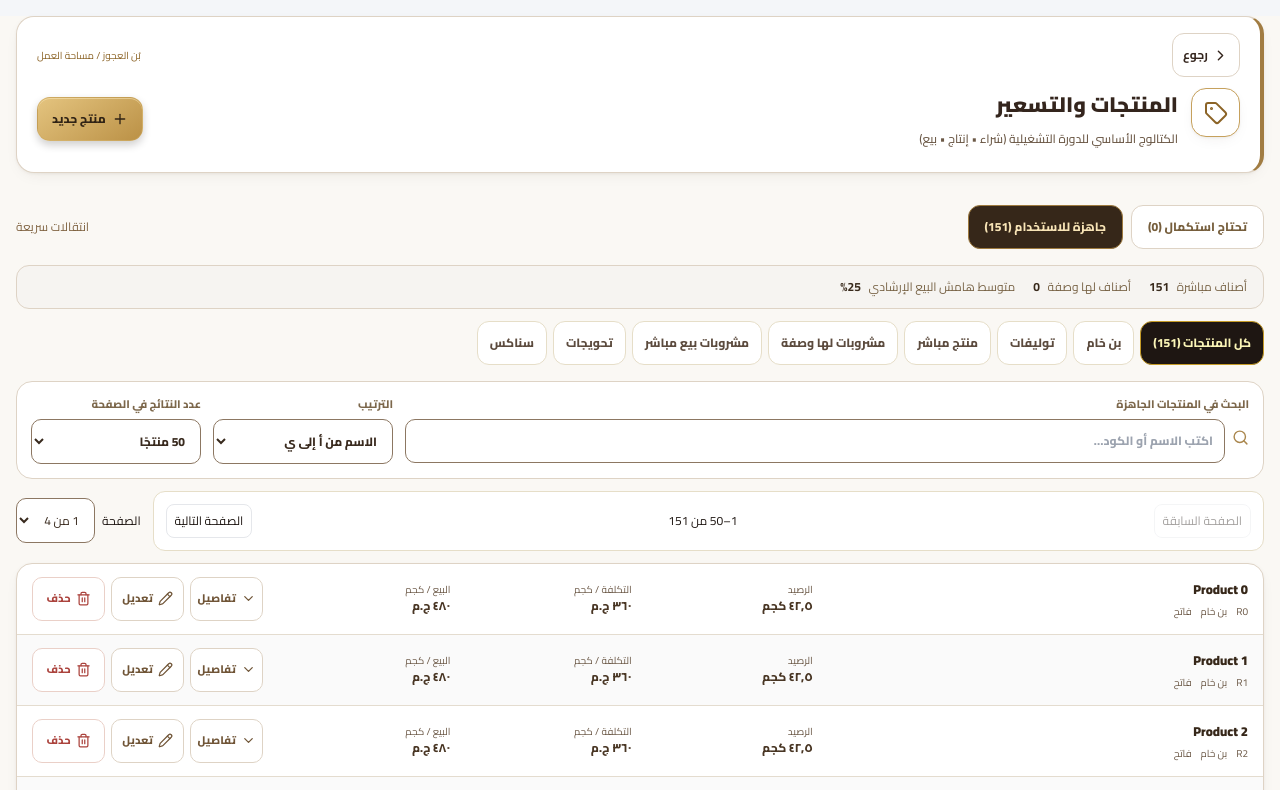
bounds ready products too and keeps type filtering across the complete catalog
This screenshot has width=1280, height=790.
Select "3 من 4" in the dropdown named "انتقل إلى صفحة المنتجات الجاهزة" at (56, 520), box [16, 498, 95, 543]
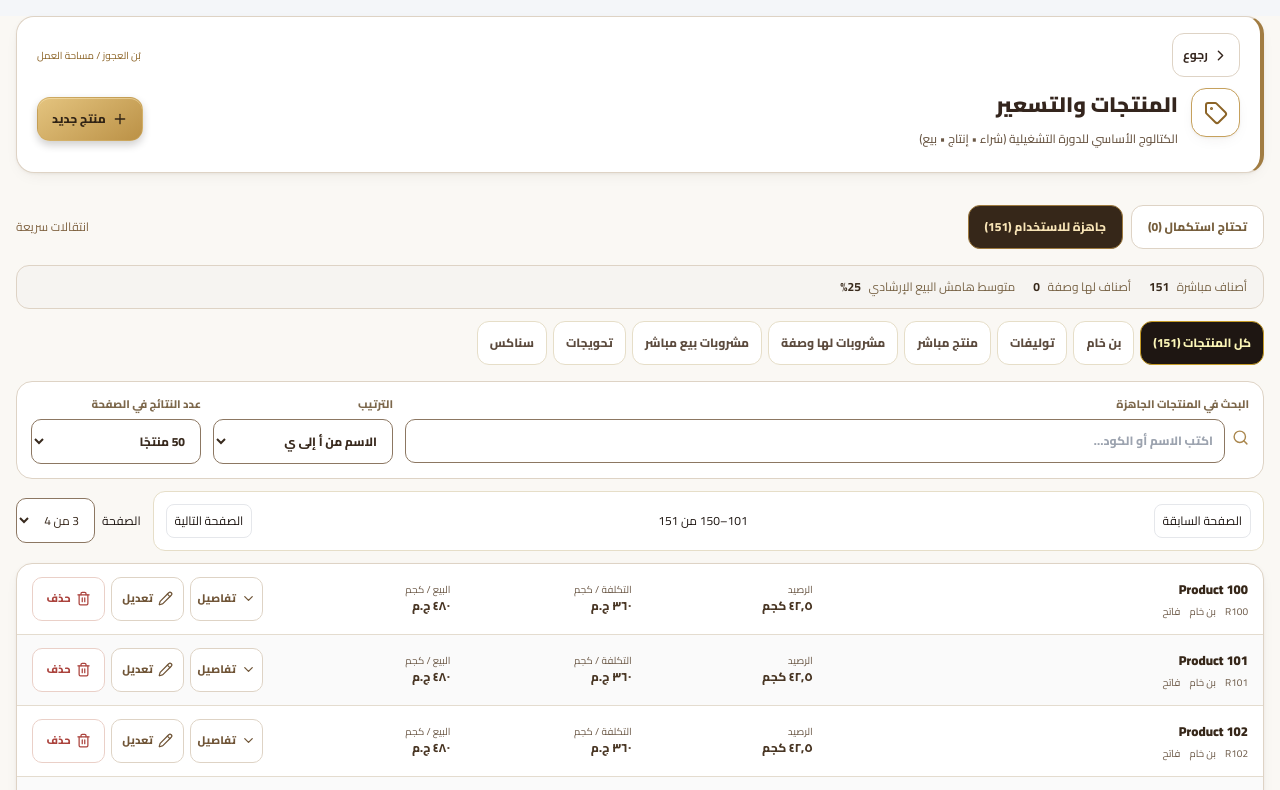
Click the button "سناكس" at (512, 343), box [477, 321, 547, 365]
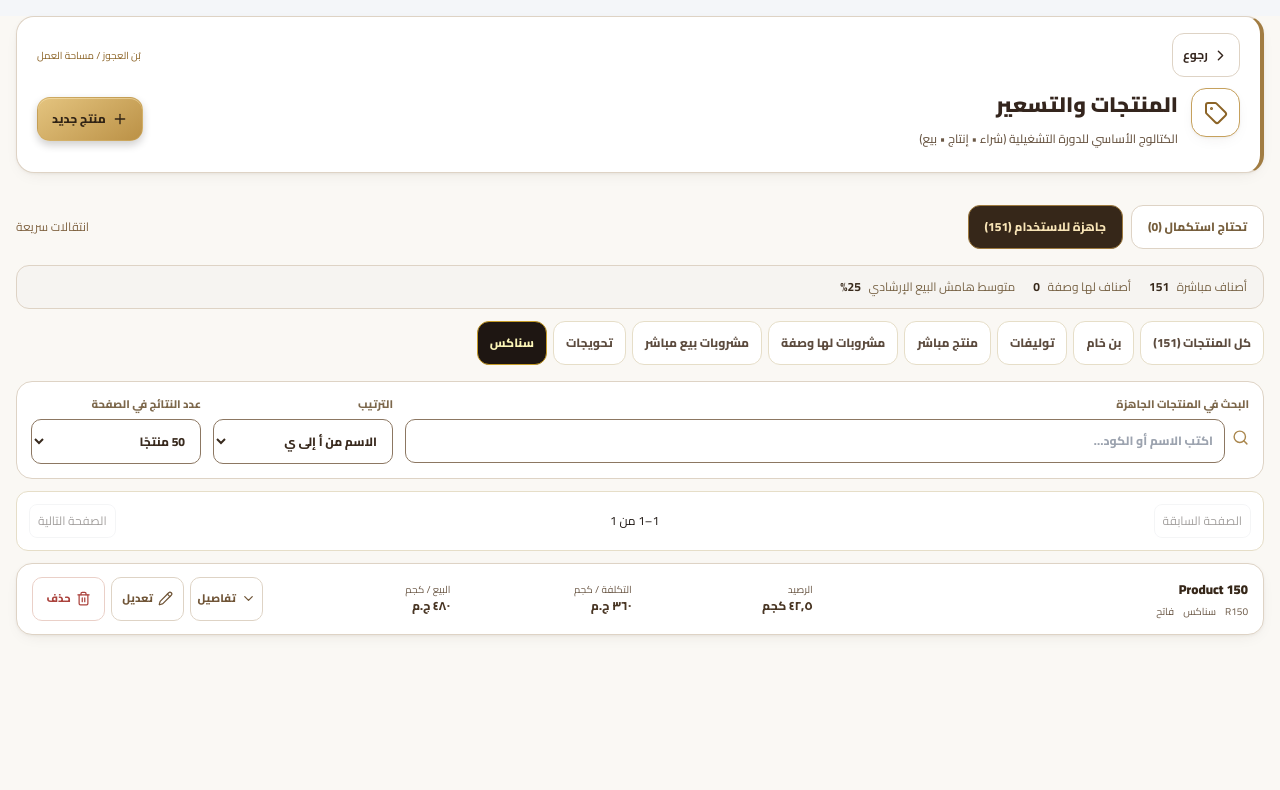
Now the number of list items is 1, box [17, 564, 1263, 634]
Now the heading "Product 150" is shown, box [1179, 578, 1248, 602]
Click the button "كل المنتجات (151)" at (1202, 343), box [1140, 321, 1264, 365]
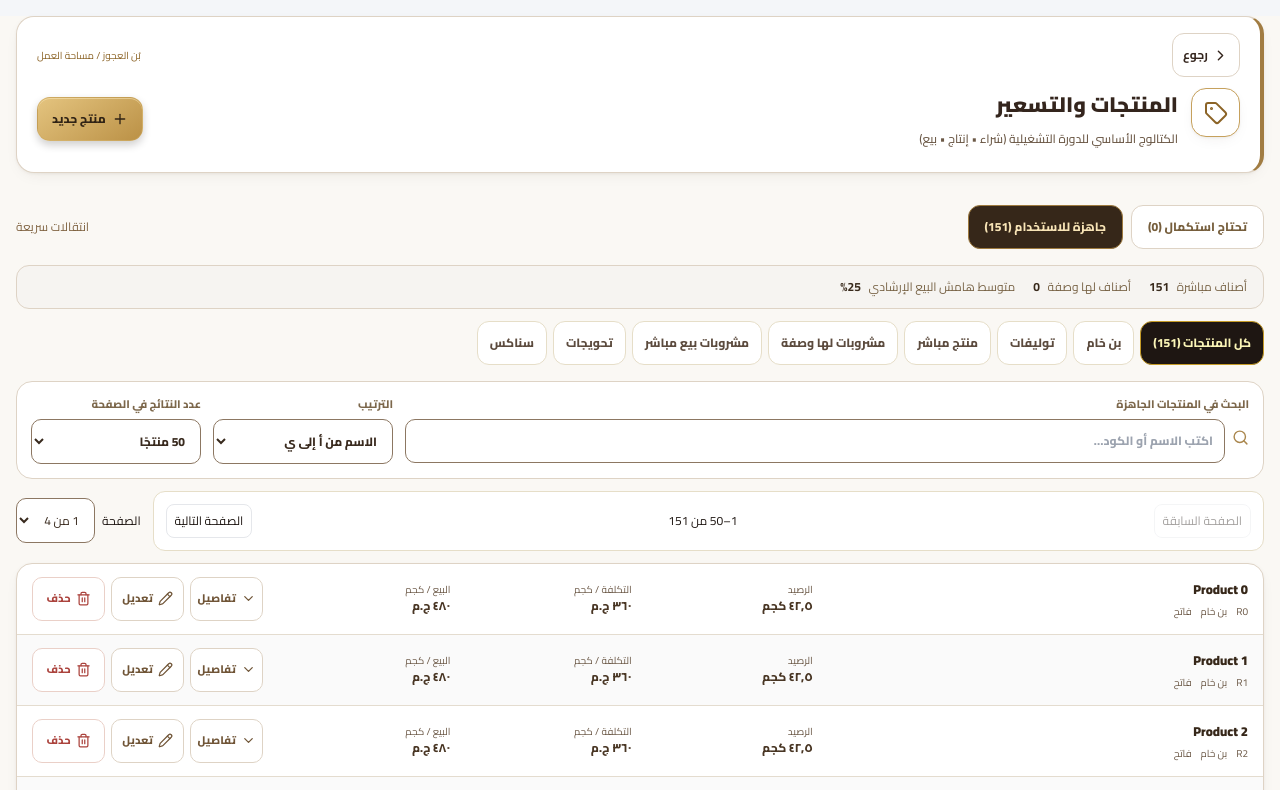
Now the dropdown named "انتقل إلى صفحة المنتجات الجاهزة" shows "1 من 4", box [16, 498, 95, 543]
